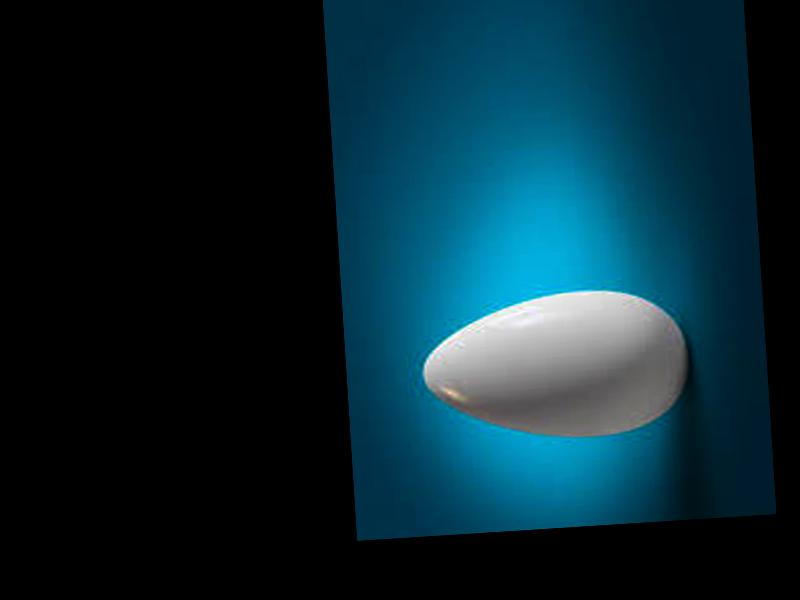Eggs: (419, 283, 693, 448)
